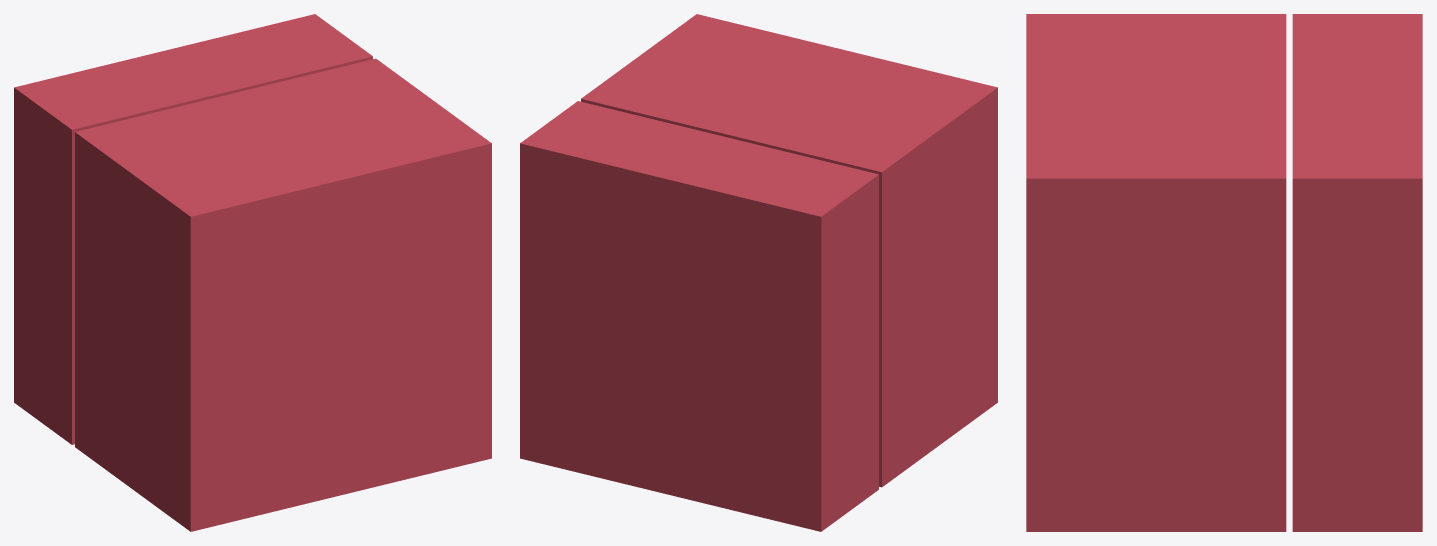
Rendered from MyCube.glb.
The picture shows the model from 3 angles, left to right: view 1: azimuth 30°, elevation 25°; view 2: azimuth 150°, elevation 25°; view 3: azimuth 270°, elevation 25°; orthographic projection. The views are drawn at different scales.
Parts seen in each view (by area): view 1: Mesh_Mesh_head_geo.001_lambert2SG.001; view 2: Mesh_Mesh_head_geo.001_lambert2SG.001; view 3: Mesh_Mesh_head_geo.001_lambert2SG.001.
Boxes of the visible parts, x1,y1,x2,y2 form: Mesh_Mesh_head_geo.001_lambert2SG.001: (14, 14, 491, 531); Mesh_Mesh_head_geo.001_lambert2SG.001: (520, 14, 997, 531); Mesh_Mesh_head_geo.001_lambert2SG.001: (1026, 14, 1422, 531).
Size of the model in its own units: 0.06 by 0.06 by 0.061.
